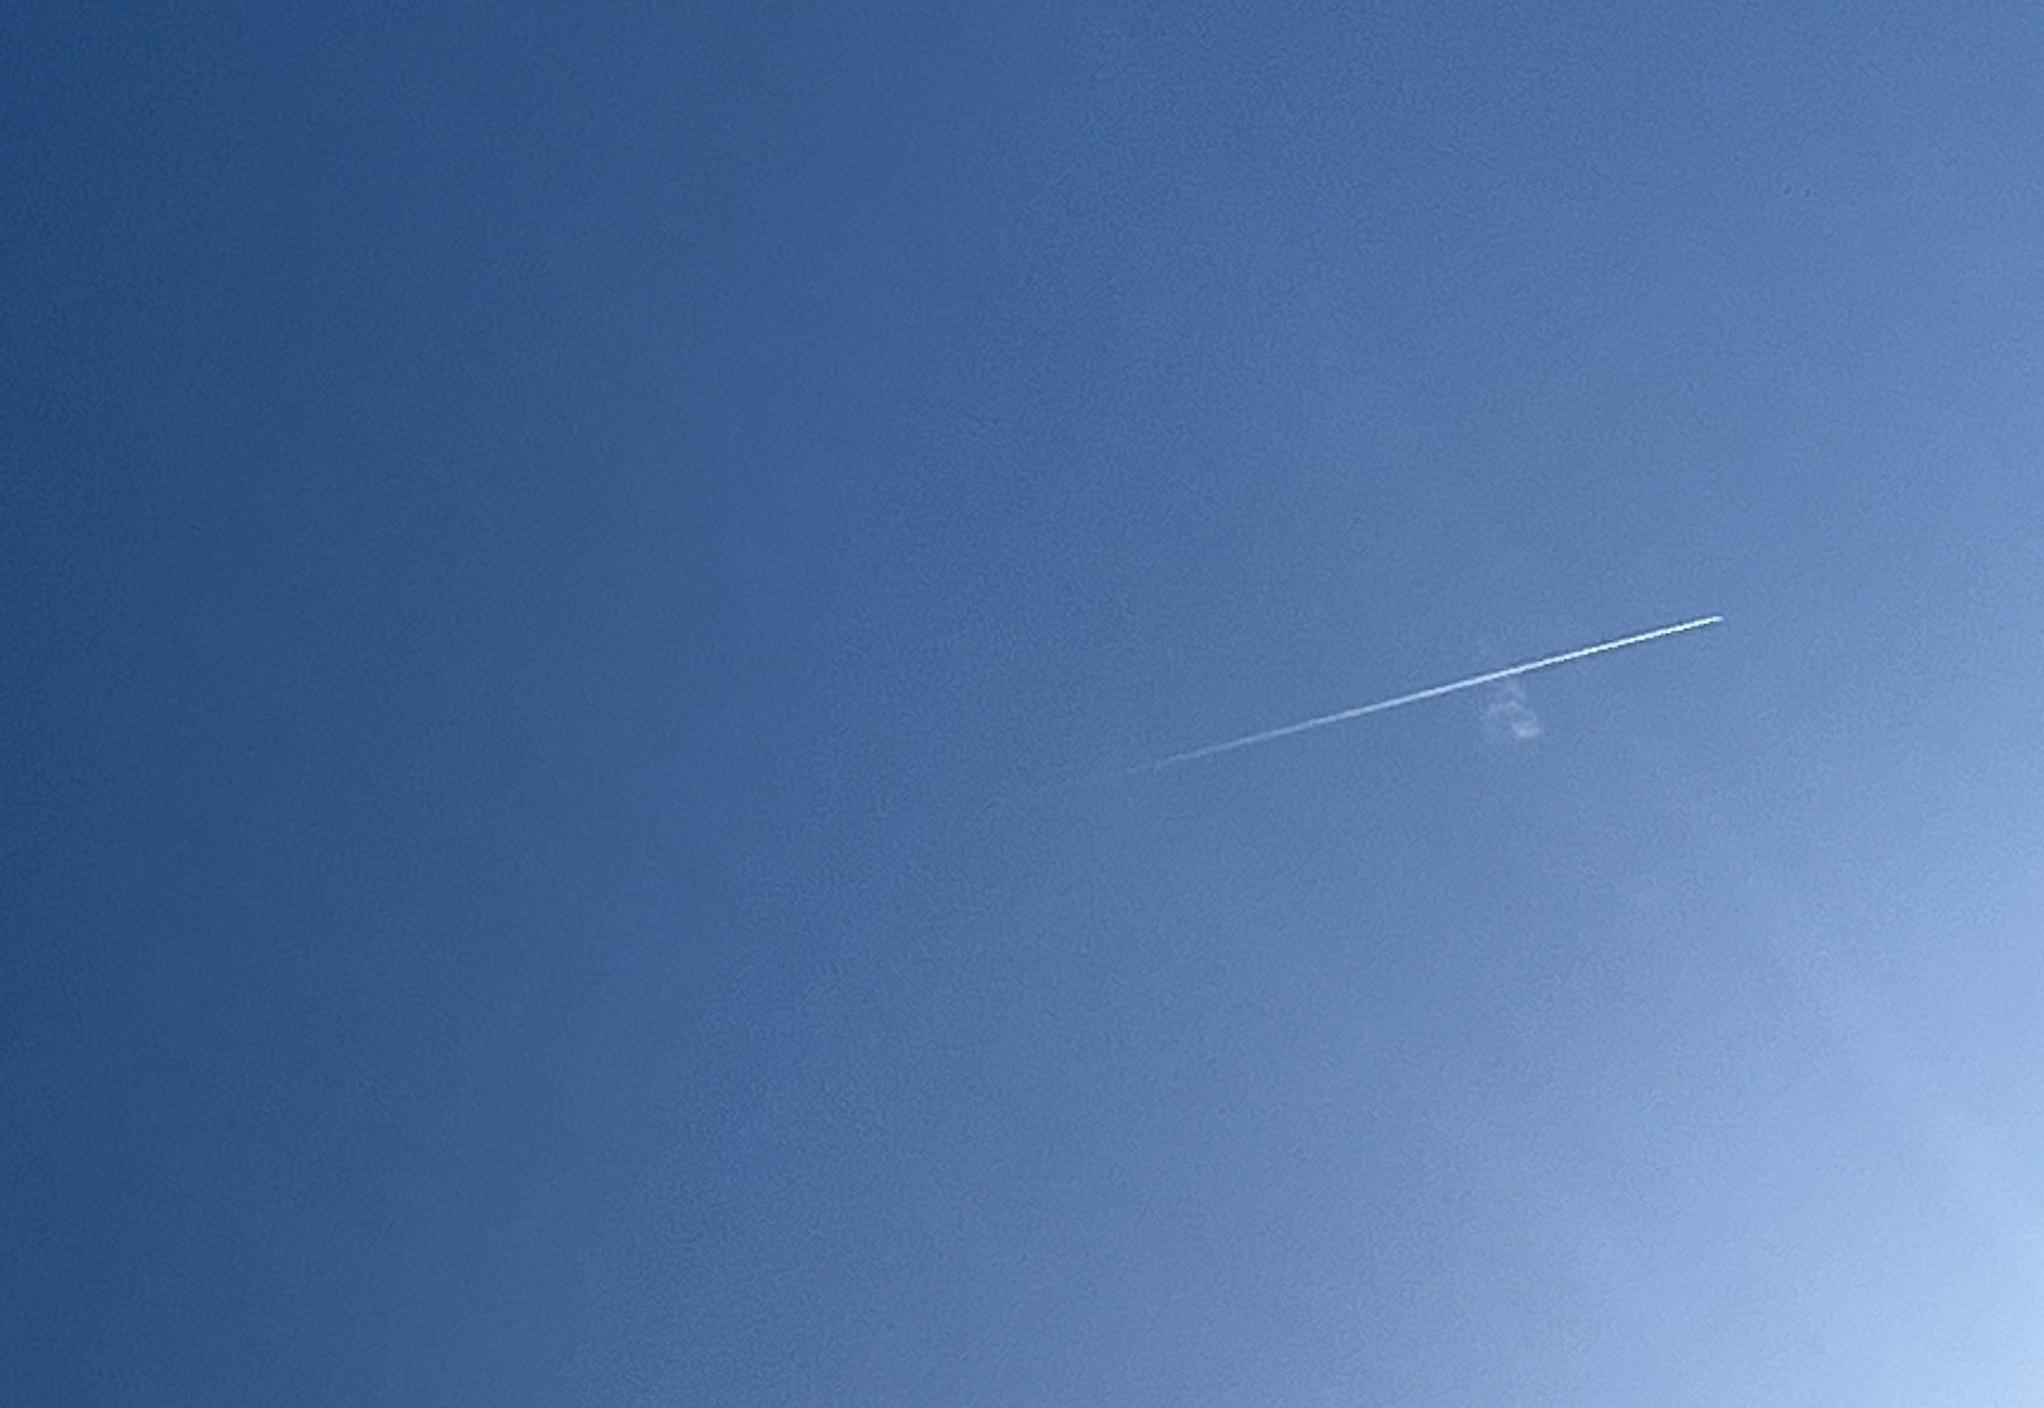Plane: (1093, 593, 1757, 779)
